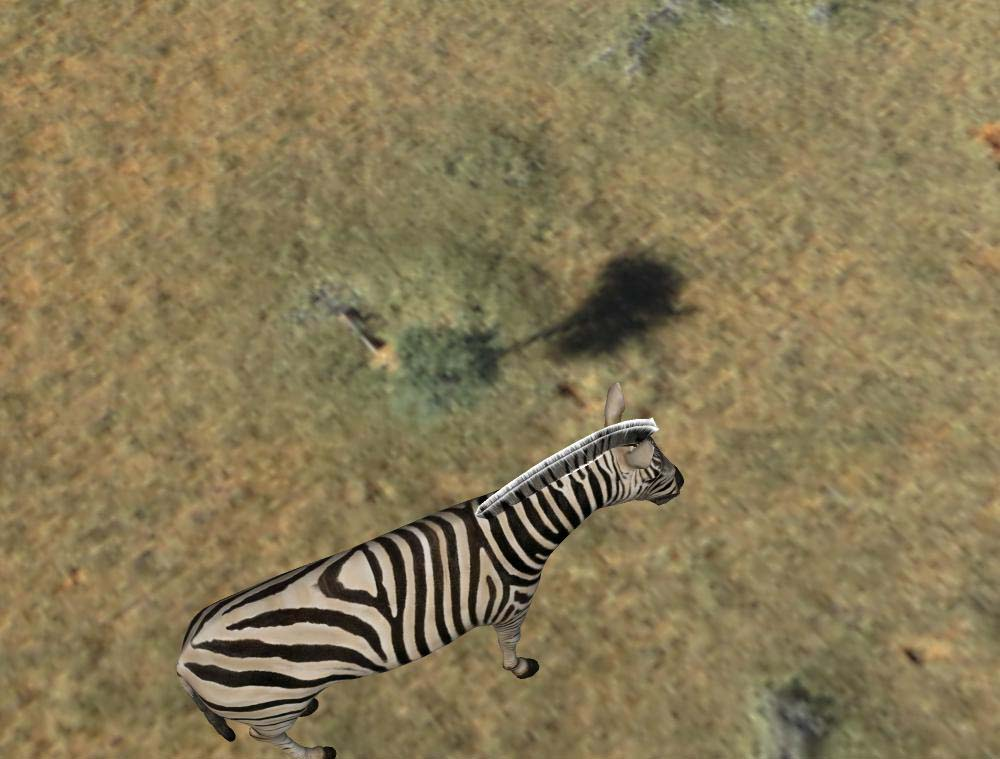zebra: (171, 386, 687, 759)
